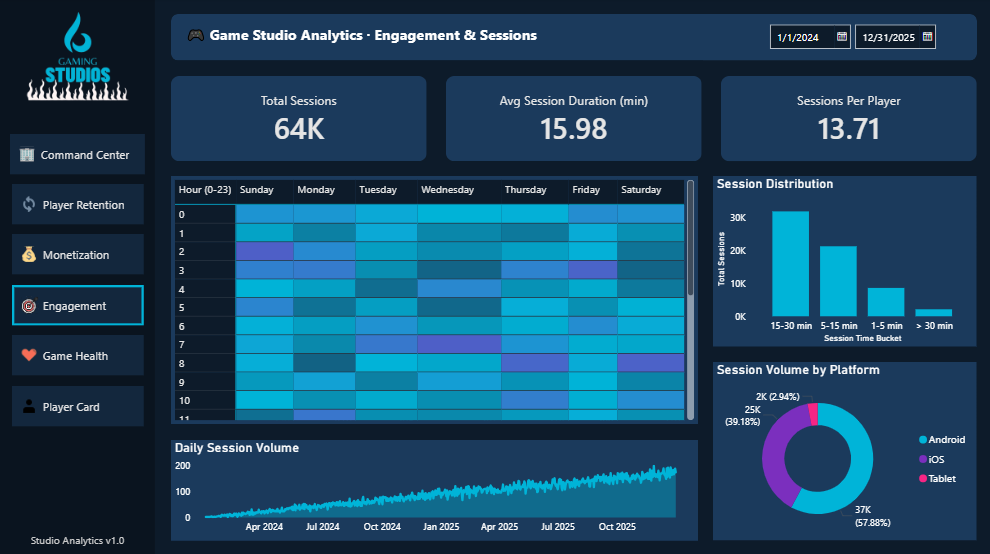

The dashboard page shown, as its layout file describes it:
{"tool":"powerbi","page":{"name":"Engagement","canvas":[1280,720],"ordinal":3},"visuals":[{"type":"shape","box":[0,0,199.8,720],"z":0},{"type":"image","box":[15.6,0,170.1,131.8],"z":1000},{"type":"textbox","box":[0,684.6,199.8,35.4],"z":2000},{"type":"actionButton","box":[12.8,175.7,174.3,52.4],"z":3000},{"type":"actionButton","box":[15.6,240,170.1,52.4],"z":4000},{"type":"actionButton","box":[15.6,305,170.1,52.4],"z":5000},{"type":"actionButton","box":[15.6,370,170.1,52.4],"z":6000},{"type":"actionButton","box":[15.6,435,170.1,52.4],"z":7000},{"type":"actionButton","box":[15.6,500,170.1,52.4],"z":8000},{"type":"shape","box":[220,20,1040,60],"z":9000},{"type":"textbox","box":[235.3,29.8,523,38.3],"z":10000},{"type":"slicer","fields":{"Values":["dim_date.date_key"]},"box":[980,25,260,50],"z":11000},{"type":"cardVisual","fields":{"Data":["_Measures.Total Sessions"]},"box":[220.2,100,330.3,110.1],"z":12000},{"type":"cardVisual","fields":{"Data":["_Measures.Sessions Per Player"]},"box":[930.4,100,330.3,110.1],"z":13000},{"type":"cardVisual","fields":{"Data":["_Measures.Avg Session Duration (min)"]},"box":[575.3,100,330.3,110.1],"z":14000},{"type":"pivotTable","fields":{"Rows":["fact_sessions.hour_of_day"],"Columns":["dim_date.day_name"],"Values":["_Measures.Total Sessions"]},"box":[220.2,230,680,320],"z":15000},{"type":"clusteredColumnChart","title":"Session Distribution","fields":{"Category":["fact_sessions.session_bucket"],"Y":["_Measures.Total Sessions"]},"box":[920,230,340.2,220],"z":16000},{"type":"areaChart","title":"Daily Session Volume","fields":{"Y":["_Measures.Total Sessions"],"Category":["dim_date.date_key"]},"box":[220,570,680.3,130],"z":17000},{"type":"donutChart","title":"Session Volume by Platform","fields":{"Category":["dim_players.device_type"],"Y":["_Measures.Total Sessions"]},"box":[920,470,340.2,230],"z":18000}]}

Visuals, with their boxes in screenshot pixels (x1, y1, x2, y2), scaled from the page's 1280x720 canvas onto the 990x554 screenshot:
shape: 0,0,155,553
image: 12,0,144,101
textbox: 0,527,155,553
actionButton: 10,135,145,176
actionButton: 12,185,144,225
actionButton: 12,235,144,275
actionButton: 12,285,144,325
actionButton: 12,335,144,375
actionButton: 12,385,144,425
shape: 170,15,975,62
textbox: 182,23,586,52
slicer - dim_date.date_key: 758,19,959,58
cardVisual - _Measures.Total Sessions: 170,77,426,162
cardVisual - _Measures.Sessions Per Player: 720,77,975,162
cardVisual - _Measures.Avg Session Duration (min): 445,77,700,162
pivotTable - fact_sessions.hour_of_day x dim_date.day_name: 170,177,696,423
"Session Distribution" clusteredColumnChart: 712,177,975,346
"Daily Session Volume" areaChart: 170,439,696,539
"Session Volume by Platform" donutChart: 712,362,975,539
